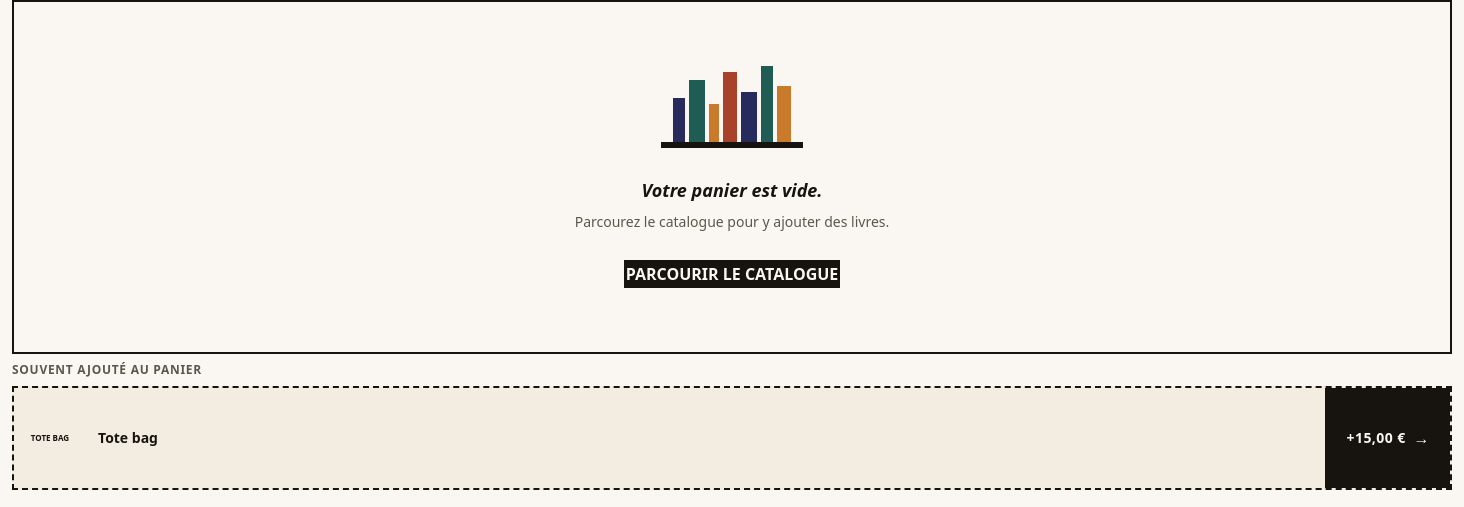
Scenario: CartView — ajout goodie au checkout › même depuis un panier vide (seule surface de découverte des goodies)
This screenshot has width=1464, height=507.
Click the button "+15,00 € →": (1387, 438) [1324,388,1450,488]
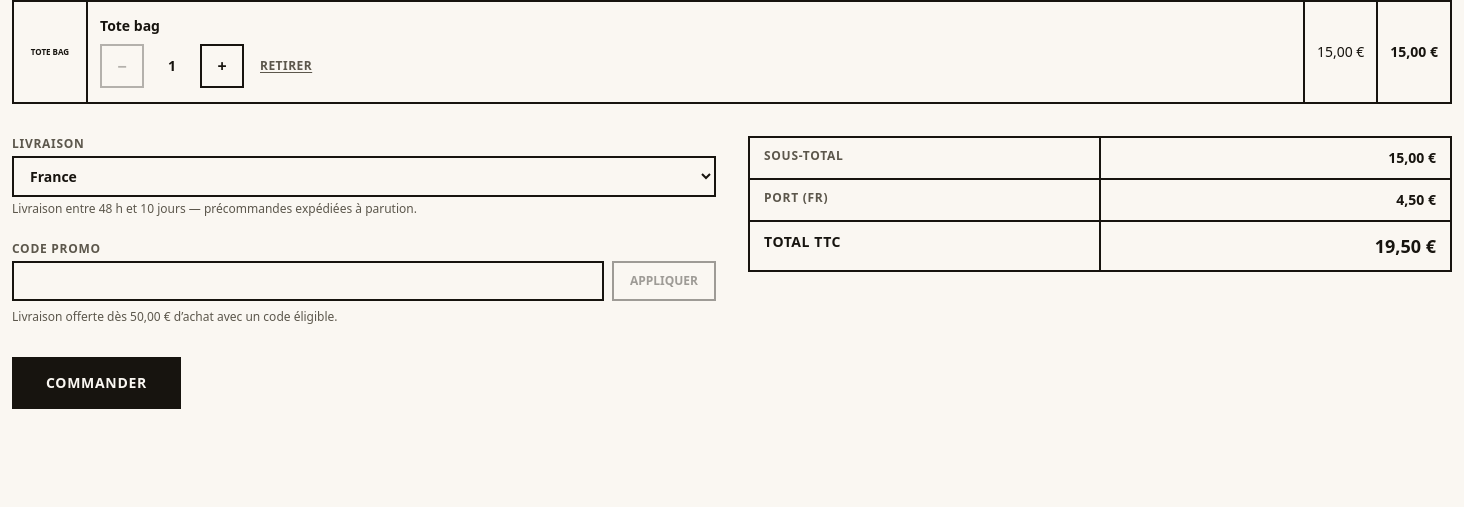
Check: the text "Tote bag" is shown, box [31,46,69,57]
Check: the text "Votre panier est vide" is gone
